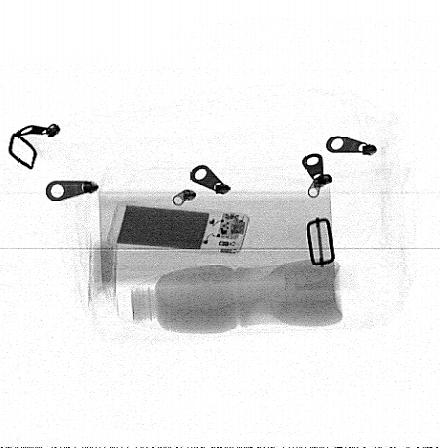Powerbank: (106, 199, 250, 256)
